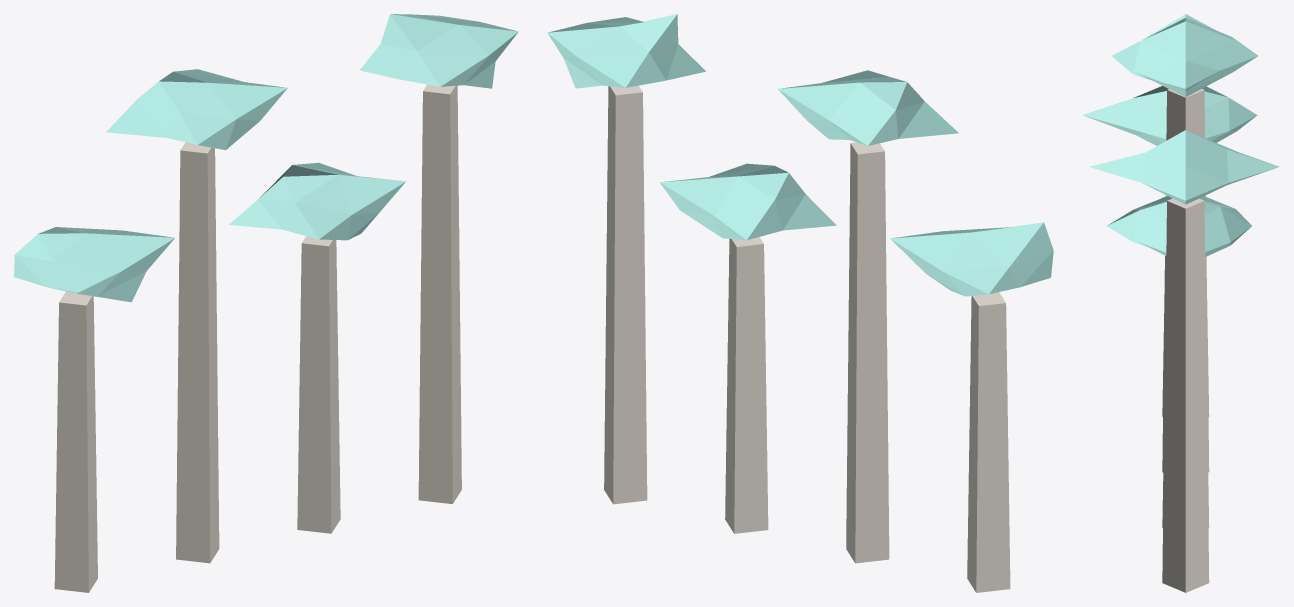
Rendered from glowcap_v14.glb.
3 views of the same model, side by side, from view 1: azimuth 30°, elevation 25°; view 2: azimuth 150°, elevation 25°; view 3: azimuth 270°, elevation 25° (orthographic). The views are drawn at different scales.
Parts seen in each view (by area): view 1: lod0; view 2: lod0; view 3: lod0.
Part boxes in pixels (x1,y1,x2,y2): lod0: (14,14,518,592); lod0: (547,14,1053,592); lod0: (1082,14,1279,592).
Size of what is drawn, in the model's own units: 0.5827 by 0.535 by 0.2109.
